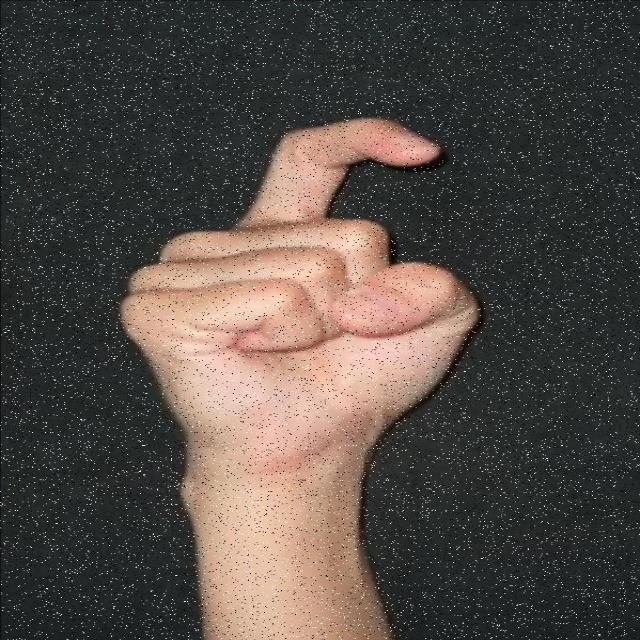X: (108, 106, 494, 475)
